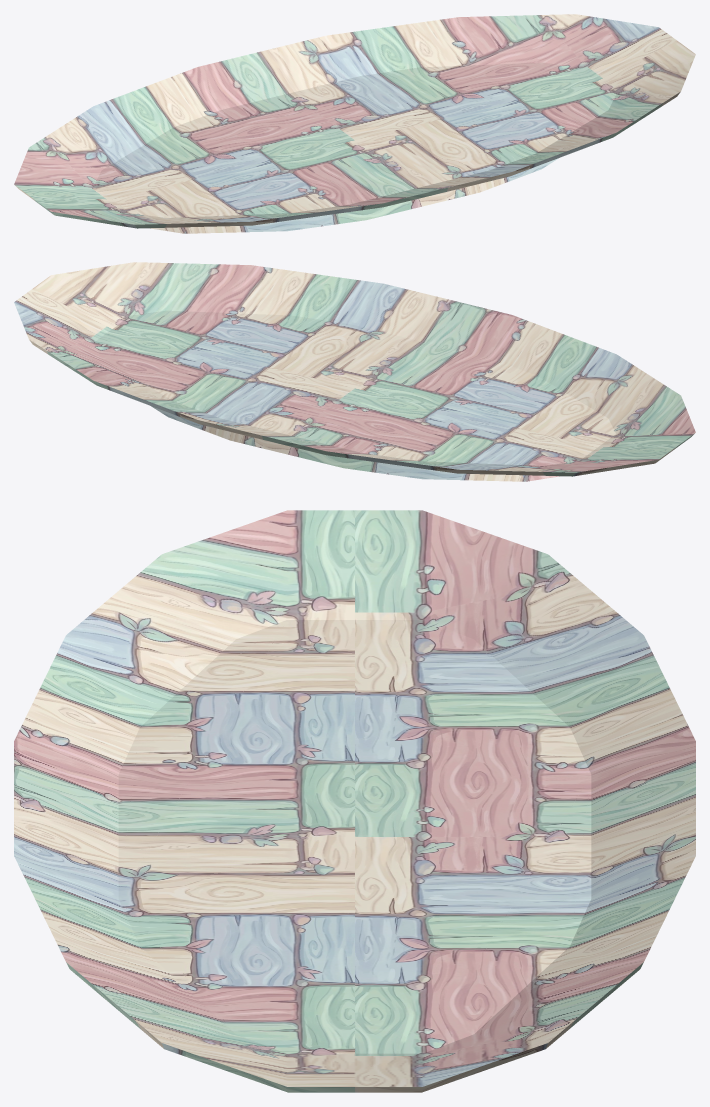
Rendered from tray.glb.
The picture shows the model from 3 angles, top to bottom: view 1: azimuth 30°, elevation 25°; view 2: azimuth 150°, elevation 25°; view 3: azimuth 270°, elevation 25°; orthographic projection. The views are drawn at different scales.
Parts seen in each view (by area): view 1: plate_oval.001_Cylinder.100; view 2: plate_oval.001_Cylinder.100; view 3: plate_oval.001_Cylinder.100.
Boxes of the visible parts, x1=… form: plate_oval.001_Cylinder.100: x1=14, y1=14, x2=695, y2=233; plate_oval.001_Cylinder.100: x1=14, y1=262, x2=695, y2=481; plate_oval.001_Cylinder.100: x1=14, y1=510, x2=695, y2=1092.
Bounding box in the file's own units: 10.75 × 0.6225 × 5.37.
1 material, 1 textured.
